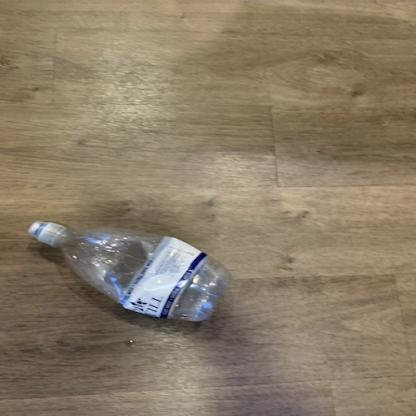trash: (27, 218, 238, 325)
